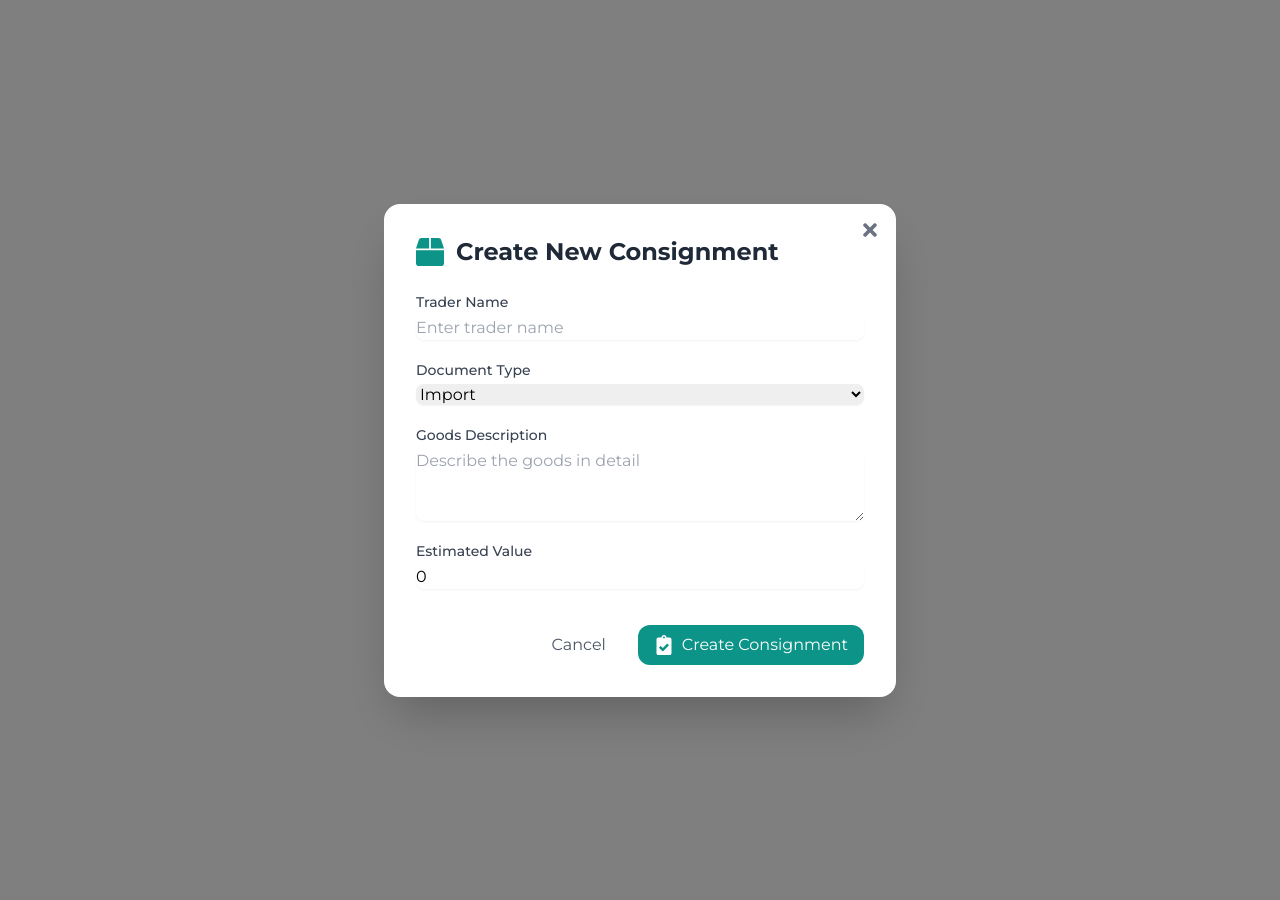
Scenario: ConsignmentCreationModal validation › rejects a goods description shorter than 10 characters
Type "Acme Traders" into the field with placeholder "Enter trader name" at (640, 328), box top-left (416, 316), bottom-right (864, 340)
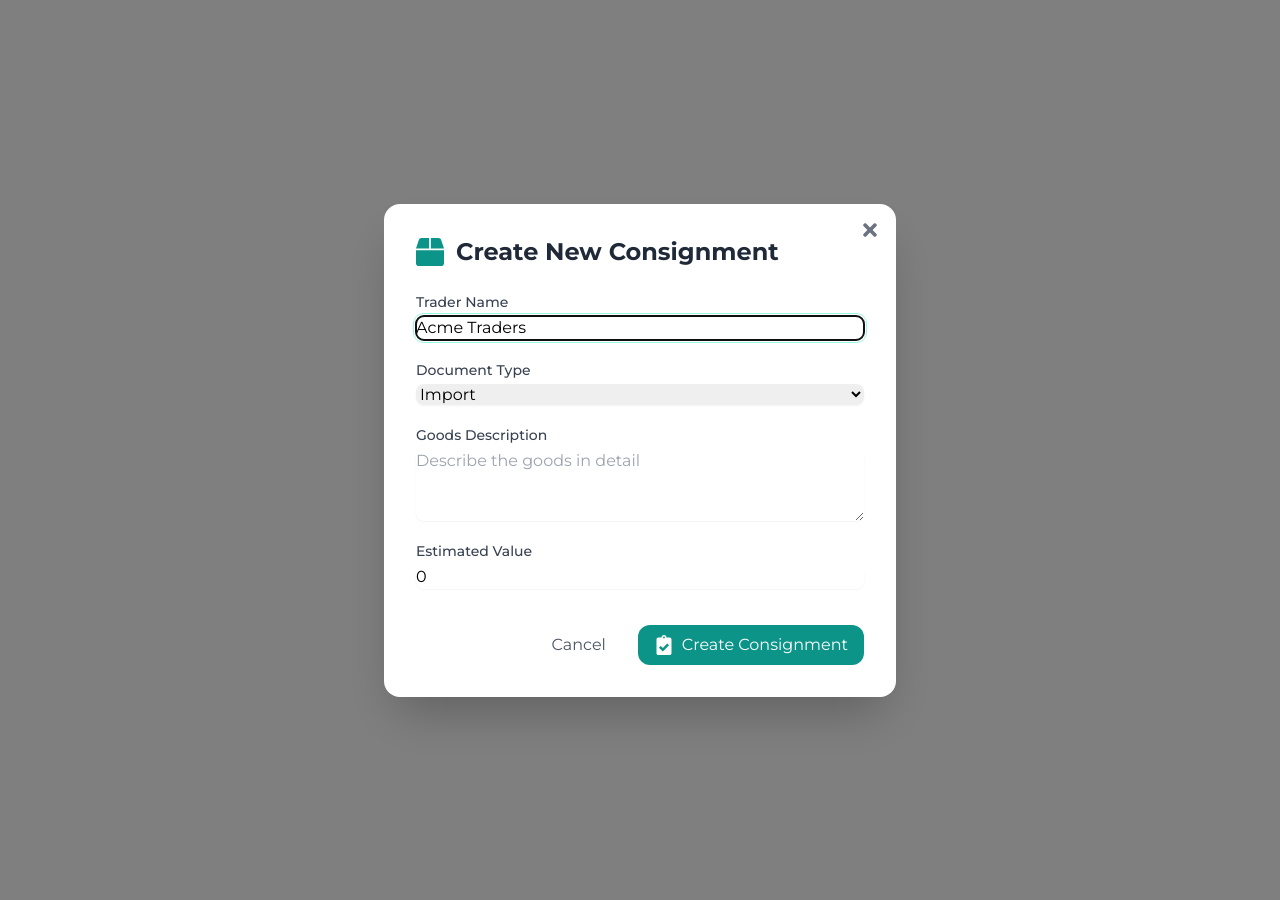
Type "too short" into the text box with placeholder "Describe the goods in detail" at (640, 484), box top-left (416, 448), bottom-right (864, 520)
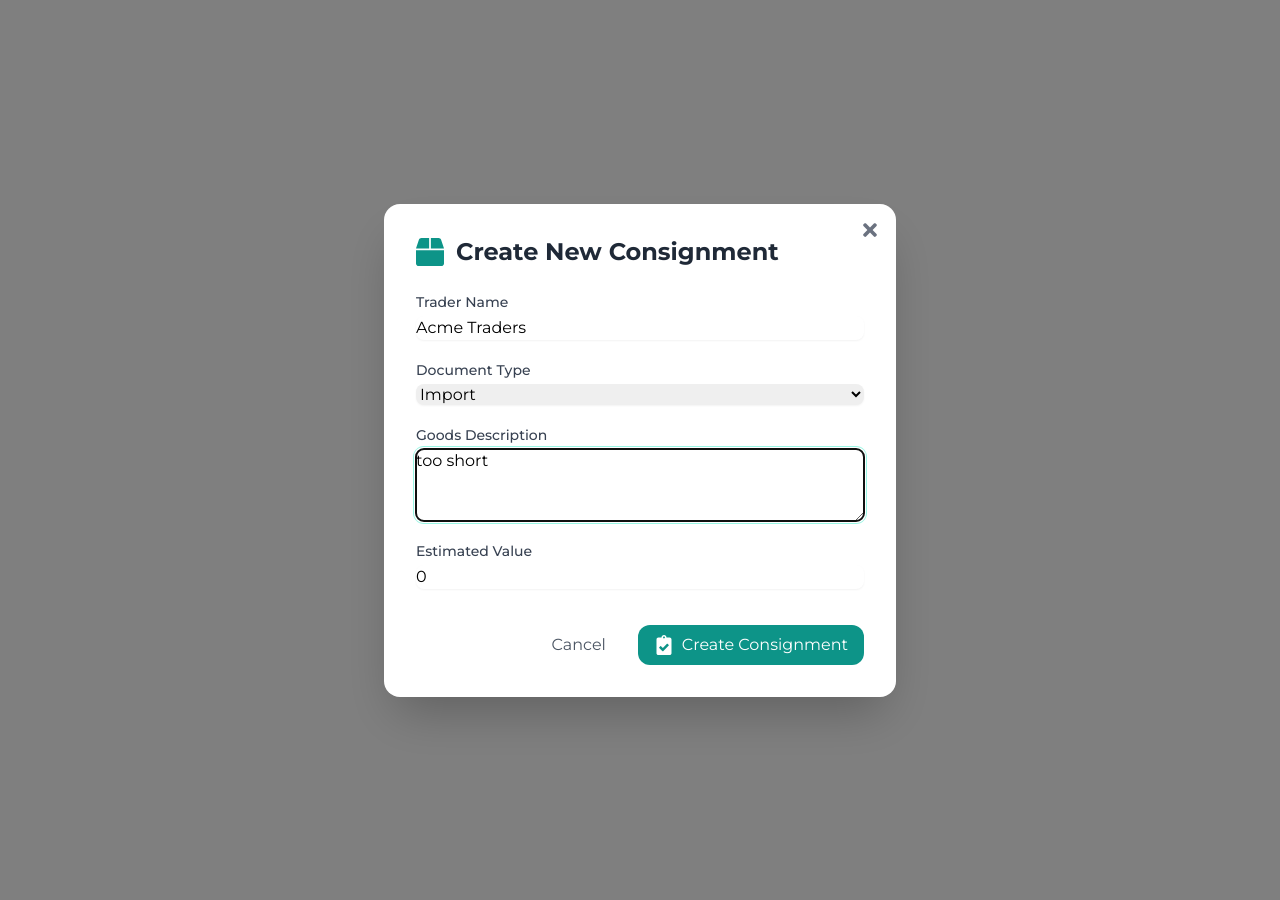
Click the button "Create Consignment" at (751, 644), box top-left (638, 624), bottom-right (864, 664)
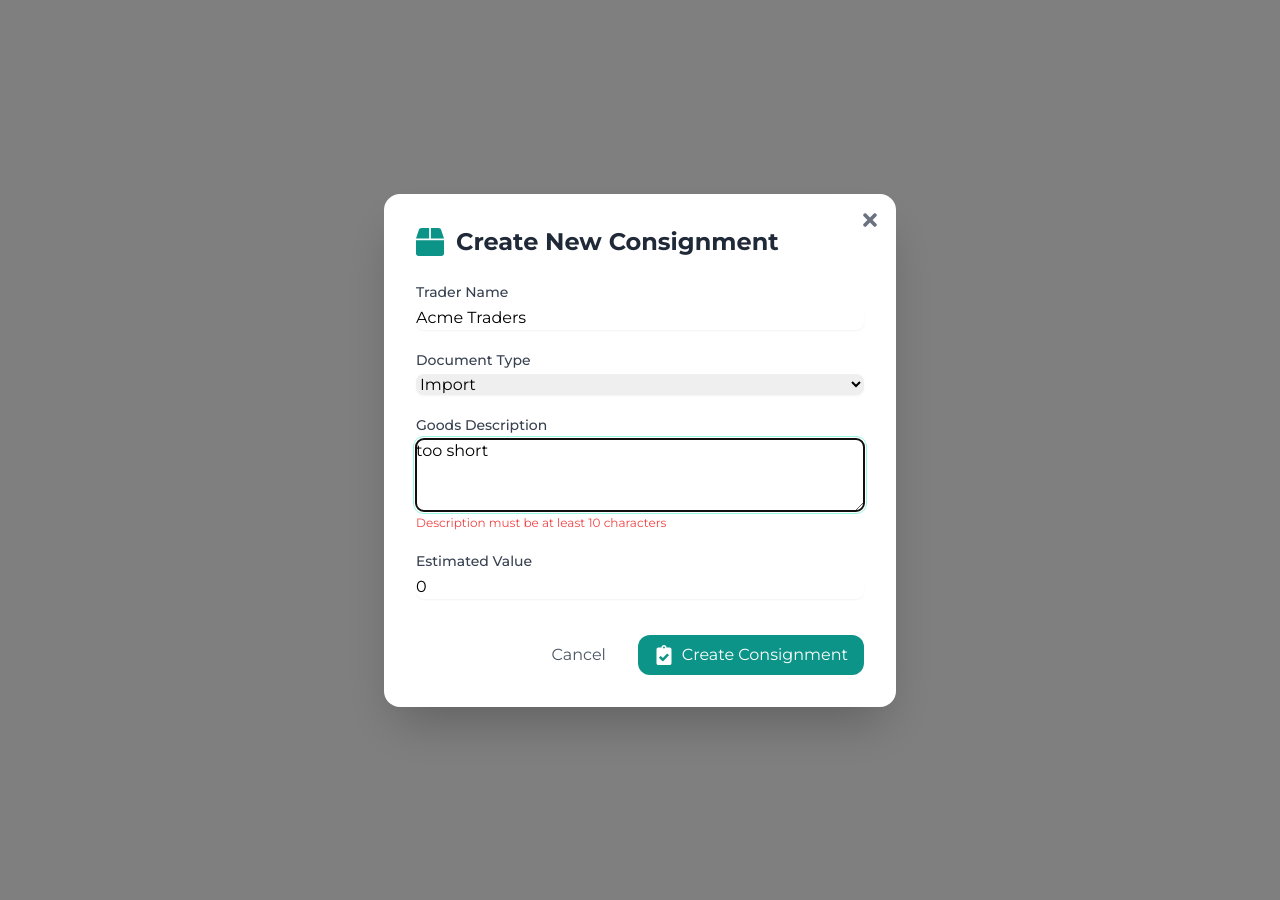
Now the text "Description must be at least 10 characters" is shown, box top-left (416, 514), bottom-right (666, 530)
